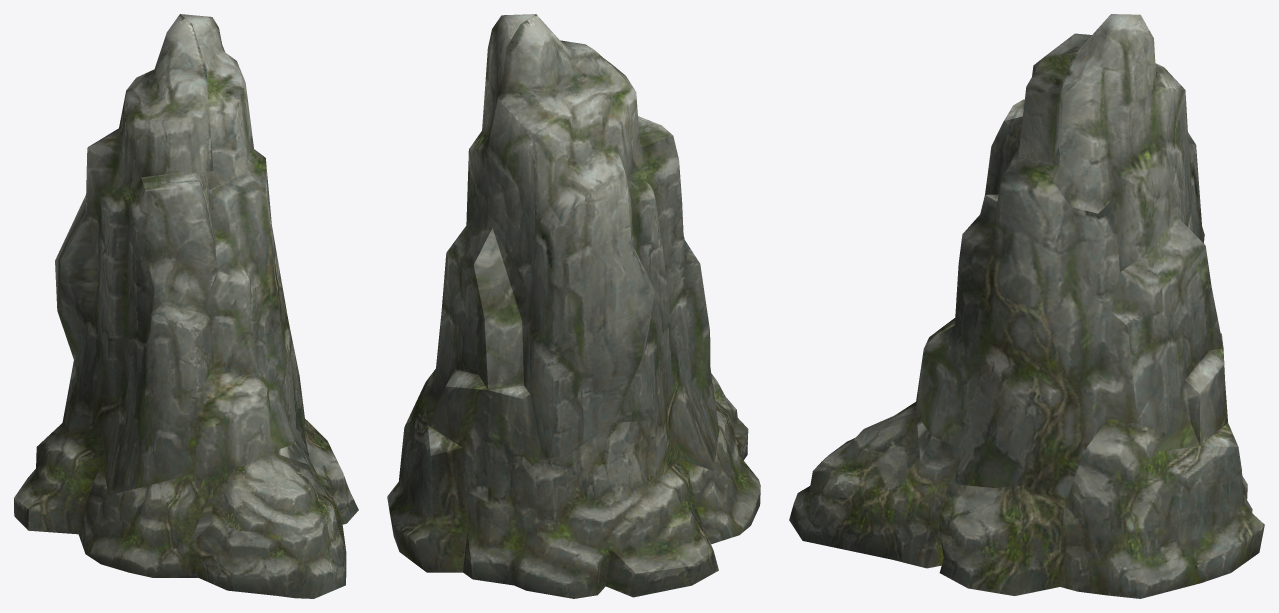
File: jd_shanti_1.FBX
The picture shows the model from 3 angles, left to right: view 1: azimuth 30°, elevation 25°; view 2: azimuth 150°, elevation 25°; view 3: azimuth 270°, elevation 25°; orthographic projection. The views are drawn at different scales.
Parts seen in each view (by area): view 1: jd_shanti_1; view 2: jd_shanti_1; view 3: jd_shanti_1.
Part boxes in pixels (left/top/right/bottom): jd_shanti_1: left=14, top=14, right=358, bottom=598; jd_shanti_1: left=387, top=14, right=760, bottom=598; jd_shanti_1: left=789, top=14, right=1264, bottom=598.
Size of the model in its own units: 4742 by 7537 by 6165.
